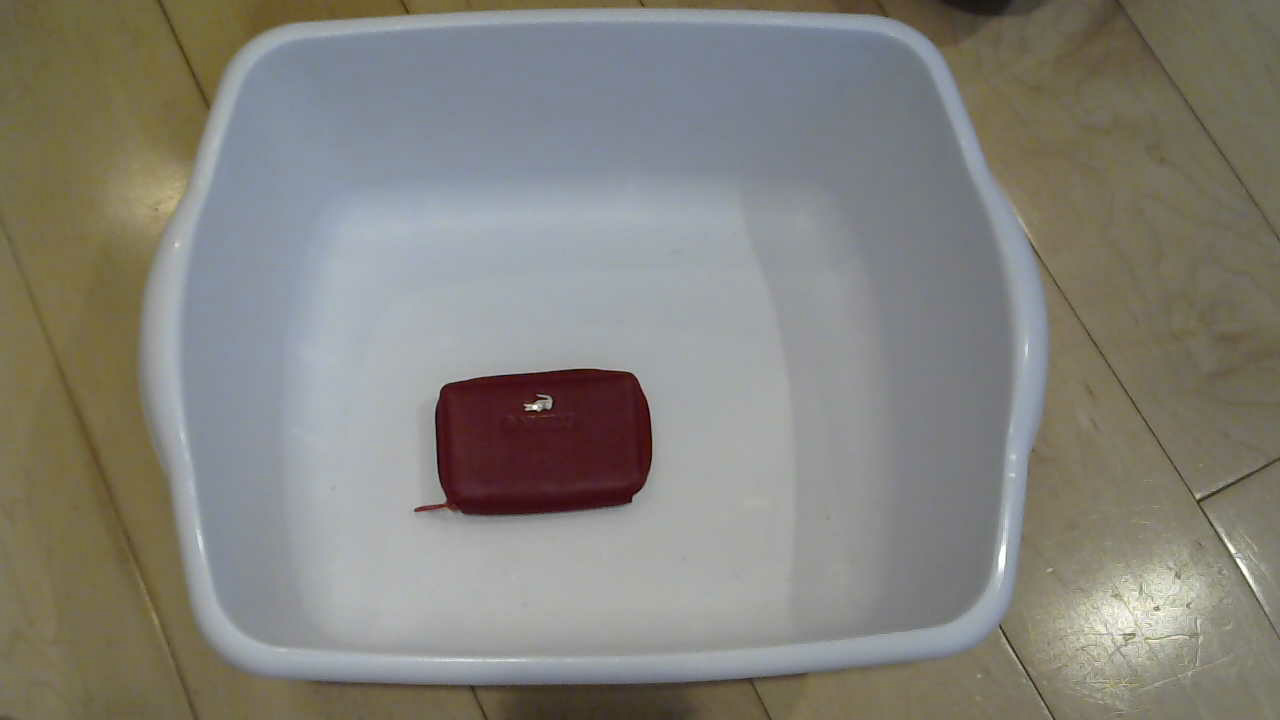wallet: (416, 356, 673, 548)
